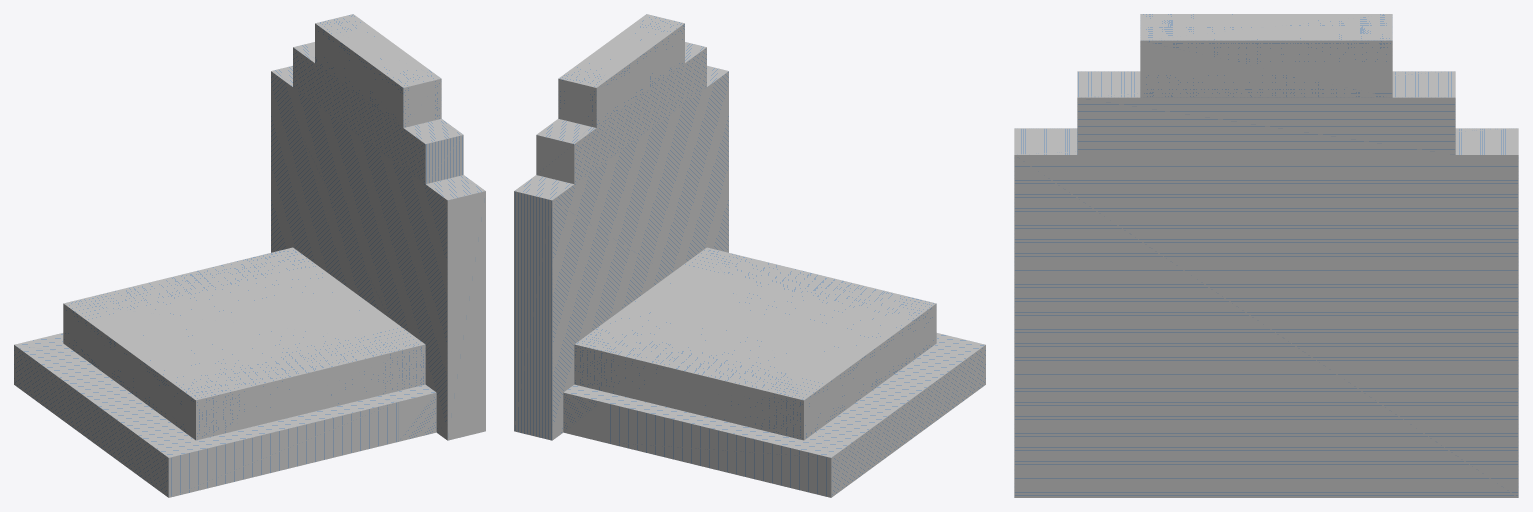
The model's file is tomb-01.fbx.
3 renders of one model, left to right at view 1: azimuth 30°, elevation 25°; view 2: azimuth 150°, elevation 25°; view 3: azimuth 270°, elevation 25°, orthographic. The views are drawn at different scales.
Parts seen in each view (by area): view 1: generated; view 2: generated; view 3: generated.
Boxes of the visible parts, left/top/right/bottom form: generated: left=14, top=14, right=485, bottom=497; generated: left=514, top=14, right=985, bottom=497; generated: left=1014, top=14, right=1518, bottom=497.
Size of the model in its own units: 80 by 80 by 80.
1 material, 1 textured.
